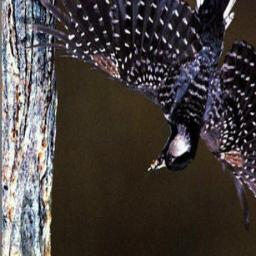Woodpecker: (26, 0, 256, 223)
